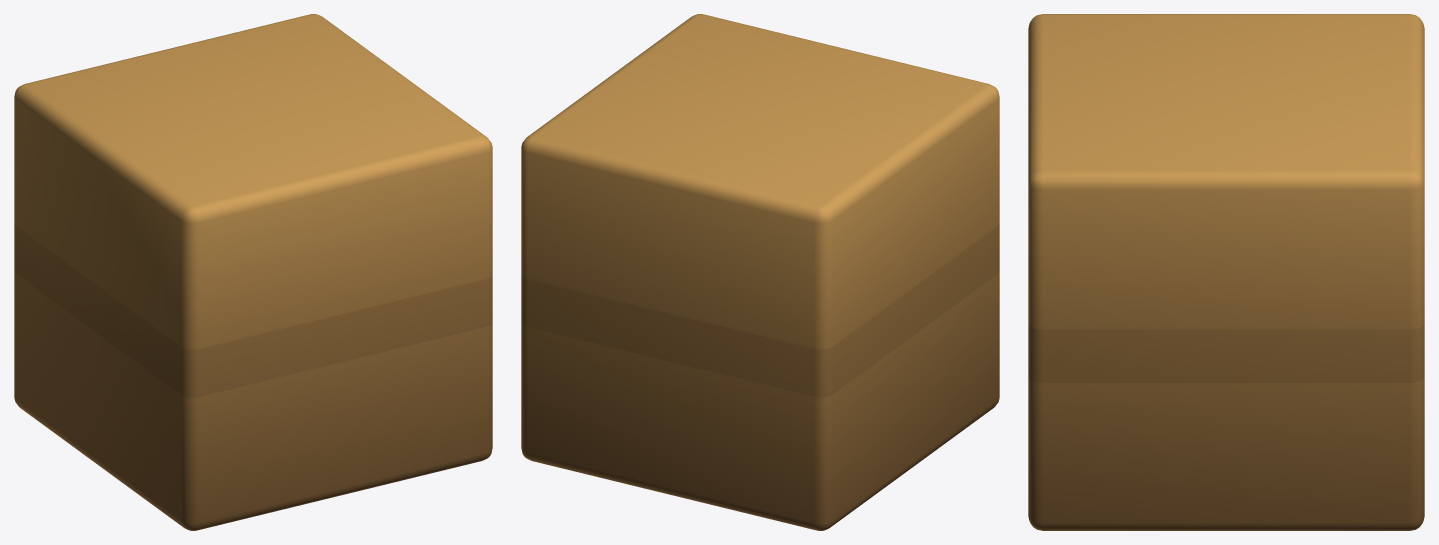
3 renders of one model, left to right at view 1: azimuth 30°, elevation 25°; view 2: azimuth 150°, elevation 25°; view 3: azimuth 270°, elevation 25°, orthographic. The views are drawn at different scales.
Parts seen in each view (by area): view 1: Cube_11; view 2: Cube_11; view 3: Cube_11.
Part boxes in pixels (x1,y1,x2,y2): Cube_11: (14,14,492,530); Cube_11: (521,14,999,530); Cube_11: (1028,14,1424,530).
Size of the model in its own units: 2 by 2 by 2.
